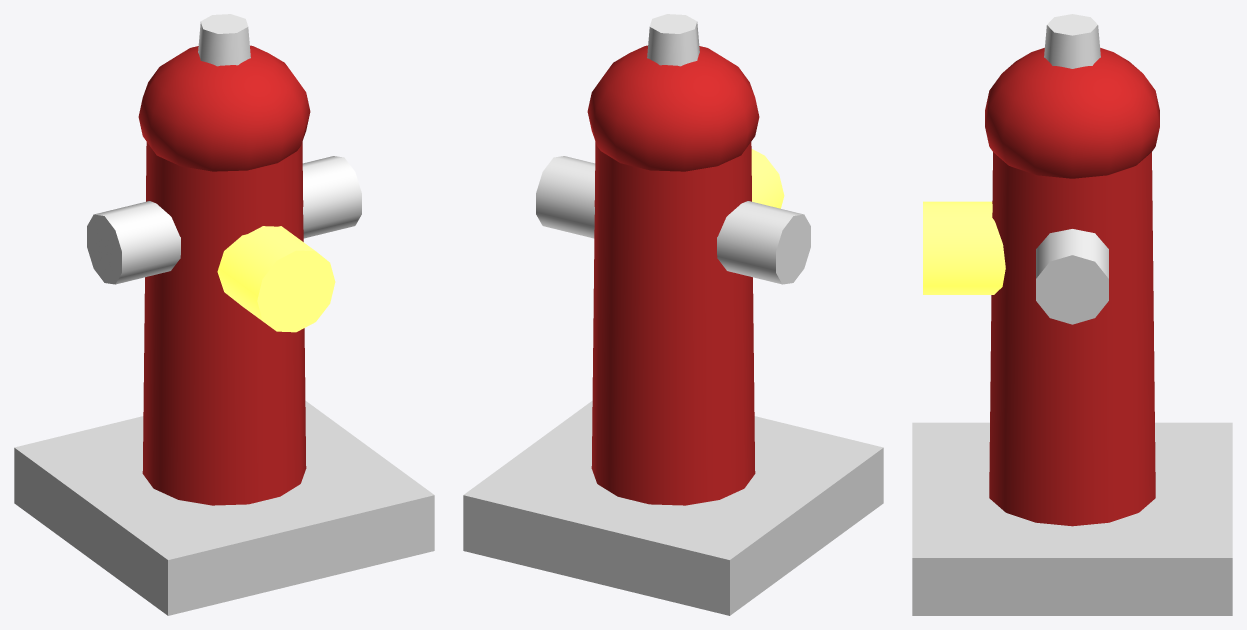
Rendered from hidran_darurat.glb.
3 views of the same model, side by side, from view 1: azimuth 30°, elevation 25°; view 2: azimuth 150°, elevation 25°; view 3: azimuth 270°, elevation 25° (orthographic). The views are drawn at different scales.
Parts seen in each view (by area): view 1: hidran_darurat; view 2: hidran_darurat; view 3: hidran_darurat.
Boxes of the visible parts, left/top/right/bottom form: hidran_darurat: left=14, top=14, right=434, bottom=615; hidran_darurat: left=463, top=14, right=883, bottom=615; hidran_darurat: left=912, top=14, right=1232, bottom=615.
Size of the model in its own units: 1.5 by 2.7 by 1.5.
